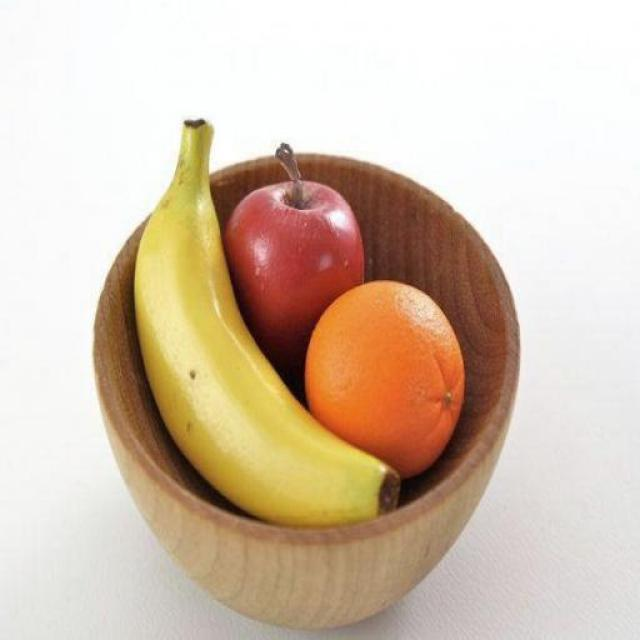Apple: (224, 143, 363, 373)
Banana: (14, 176, 281, 582)
Orange: (306, 279, 465, 477)
